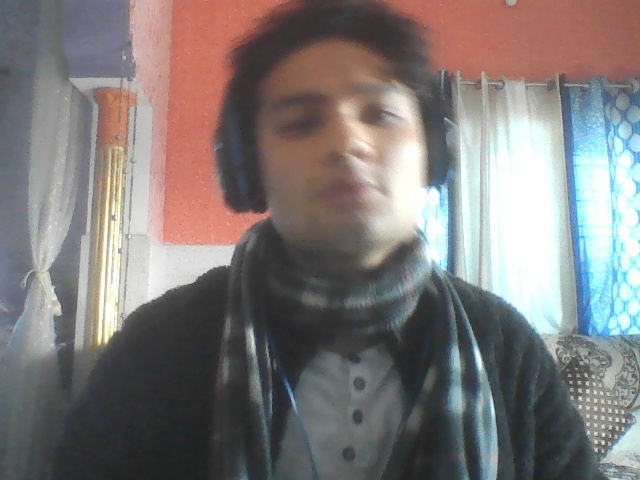real: (237, 0, 444, 294)
